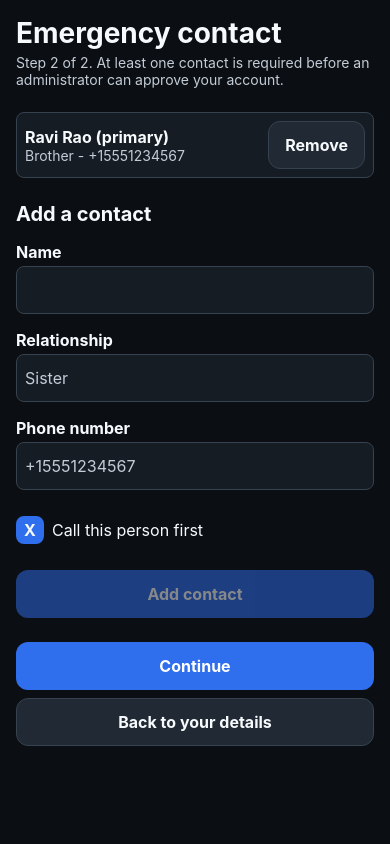
Scenario: emergency contact loading recovery › keeps Continue disabled through removal and its pending list reconciliation
Click the button "Remove": point(317, 145) [268,121,365,169]
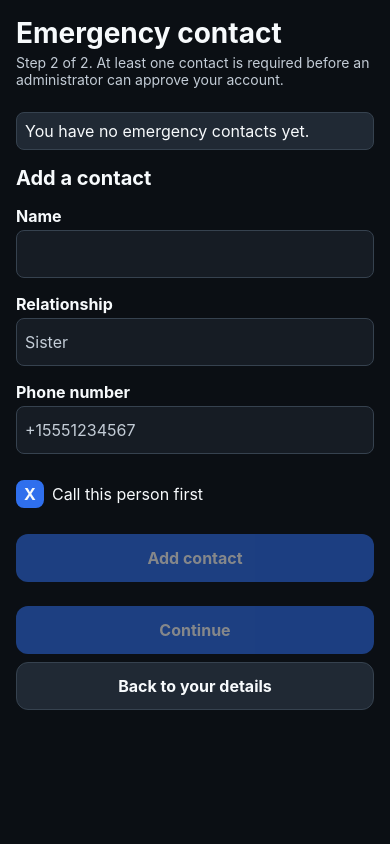
Now the element with test id "contacts-empty" is shown, box [16,112,374,150]
Now the button with test id "contacts-continue" is disabled, box [16,606,374,654]
